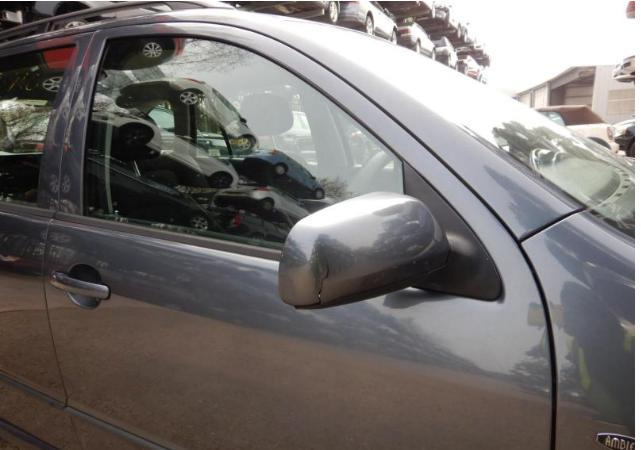Back-door: (0, 33, 94, 449)
Back-window: (0, 44, 75, 202)
Fender: (519, 210, 635, 449)
Front-door: (43, 22, 555, 449)
Front-window: (83, 35, 404, 251)
Mirror: (280, 159, 503, 309)
Windshield: (269, 17, 632, 235)
